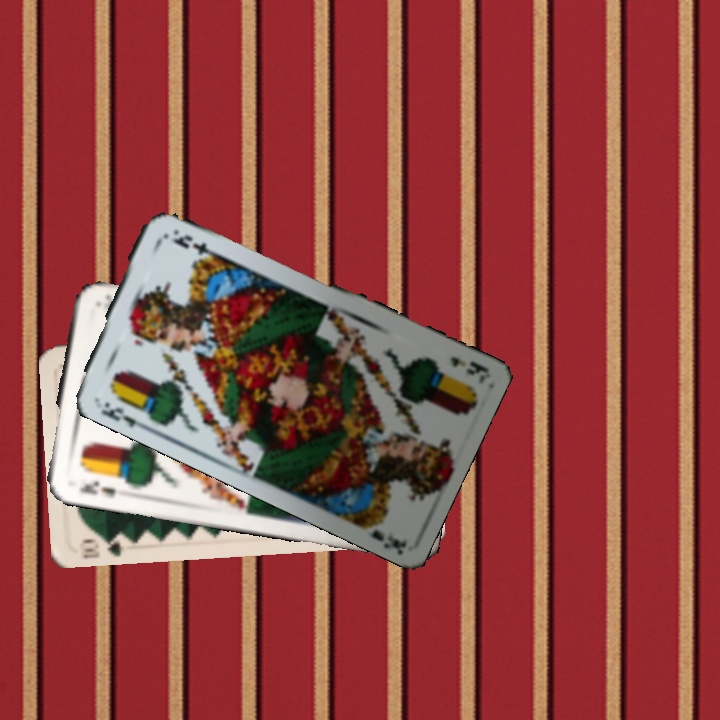EK: (89, 393, 141, 430), (447, 352, 488, 378), (74, 476, 118, 500)
G10: (75, 531, 131, 561)
